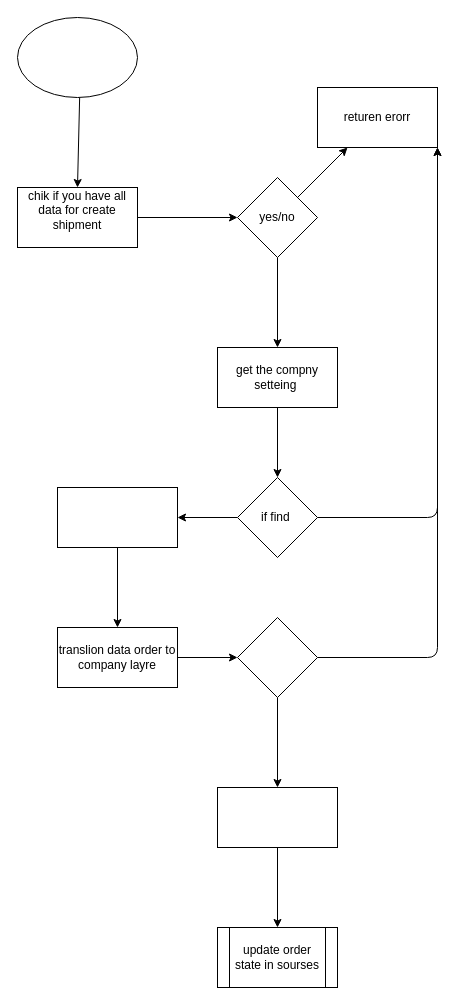
This 463x1005 diagram has some shape labels left out. The centre of each missing label's shape, as x and y in pixels:
create shipment: (x=77, y=57)
culclet the price: (x=117, y=517)
if true: (x=277, y=657)
save the shipment in data base: (x=277, y=817)
